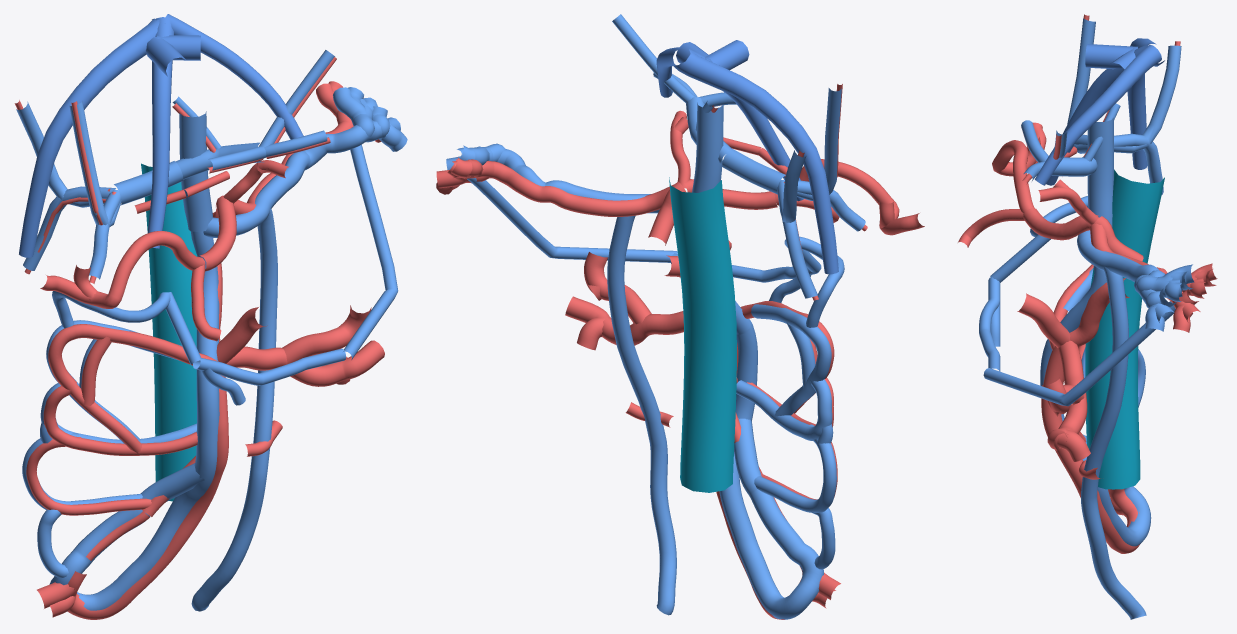
Rendered from HepaticVessels.glb.
The picture shows the model from 3 angles, left to right: view 1: azimuth 30°, elevation 25°; view 2: azimuth 150°, elevation 25°; view 3: azimuth 270°, elevation 25°; orthographic projection. The views are drawn at different scales.
Visible parts, largest first — view 1: Superior mesenteric vein, Inferior vena cava (abdominal part), Inferior mesenteric vein, Right_hepatic_vein, Superior mesenteric artery, Splenic vein, Middle_hepatic_vein, Proper hepatic artery, Left gastro-omental vein, Superior mesenteric artery_spline_5, Middle colic artery, Right gastro-omental vein (+32 smaller); view 2: Inferior vena cava (abdominal part), Superior mesenteric vein, Inferior mesenteric vein, Right_hepatic_vein, Splenic artery, Left gastro-omental vein, Middle colic vein_spline_2, Hepatic portal vein, Middle colic vein, Superior mesenteric artery_spline_5, Right colic vein, Proper hepatic artery (+18 smaller); view 3: Inferior vena cava (abdominal part), Inferior mesenteric vein, Superior mesenteric artery, Superior mesenteric vein, Left_hepatic_vein, Left gastro-omental vein, Hepatic portal vein, Splenic vein, Proper hepatic artery, Superior mesenteric artery_spline_5, Portal_vein_segment_VII, Right gastro-omental vein (+20 smaller).
Part boxes in pixels (left/top/right/bottom): Superior mesenteric vein: left=49, top=231, right=219, bottom=611; Inferior vena cava (abdominal part): left=141, top=163, right=197, bottom=501; Inferior mesenteric vein: left=191, top=209, right=277, bottom=611; Right_hepatic_vein: left=19, top=18, right=165, bottom=257; Superior mesenteric artery: left=67, top=263, right=228, bottom=619; Splenic vein: left=203, top=117, right=400, bottom=237; Middle_hepatic_vein: left=147, top=17, right=173, bottom=248; Proper hepatic artery: left=40, top=231, right=205, bottom=308; Left gastro-omental vein: left=343, top=144, right=398, bottom=359; Superior mesenteric artery_spline_5: left=226, top=340, right=384, bottom=386; Middle colic artery: left=48, top=324, right=217, bottom=390; Right gastro-omental vein: left=193, top=348, right=346, bottom=405; Inferior vena cava (abdominal part): left=669, top=177, right=736, bottom=492; Superior mesenteric vein: left=719, top=301, right=823, bottom=619; Inferior mesenteric vein: left=607, top=215, right=676, bottom=615; Right_hepatic_vein: left=673, top=52, right=838, bottom=274; Splenic artery: left=436, top=161, right=673, bottom=216; Left gastro-omental vein: left=467, top=178, right=677, bottom=262; Middle colic vein_spline_2: left=751, top=304, right=831, bottom=416; Hepatic portal vein: left=692, top=102, right=723, bottom=192; Middle colic vein: left=736, top=379, right=832, bottom=440; Superior mesenteric artery_spline_5: left=565, top=296, right=683, bottom=345; Right colic vein: left=754, top=424, right=836, bottom=512; Proper hepatic artery: left=774, top=159, right=924, bottom=235; Inferior vena cava (abdominal part): left=1085, top=169, right=1164, bottom=489; Inferior mesenteric vein: left=1081, top=266, right=1146, bottom=619; Superior mesenteric artery: left=1041, top=278, right=1139, bottom=553; Superior mesenteric vein: left=1040, top=266, right=1151, bottom=546; Left_hepatic_vein: left=1035, top=44, right=1161, bottom=185; Left gastro-omental vein: left=983, top=301, right=1175, bottom=406; Hepatic portal vein: left=1087, top=117, right=1113, bottom=226; Splenic vein: left=1077, top=230, right=1174, bottom=322; Proper hepatic artery: left=992, top=122, right=1046, bottom=214; Superior mesenteric artery_spline_5: left=1047, top=340, right=1087, bottom=450; Portal_vein_segment_VII: left=1114, top=45, right=1181, bottom=153; Right gastro-omental vein: left=979, top=277, right=1000, bottom=371.
Bounding box in the file's own units: 19.66 × 25.96 × 11.1.
